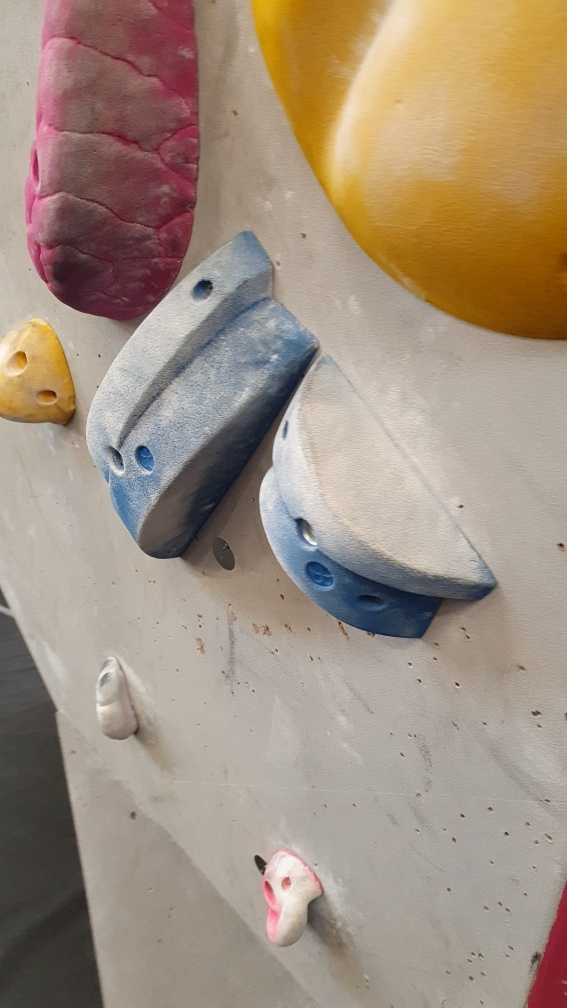Hand Start: (207, 534, 243, 576)
Pinch: (90, 225, 317, 564), (258, 353, 499, 652)
